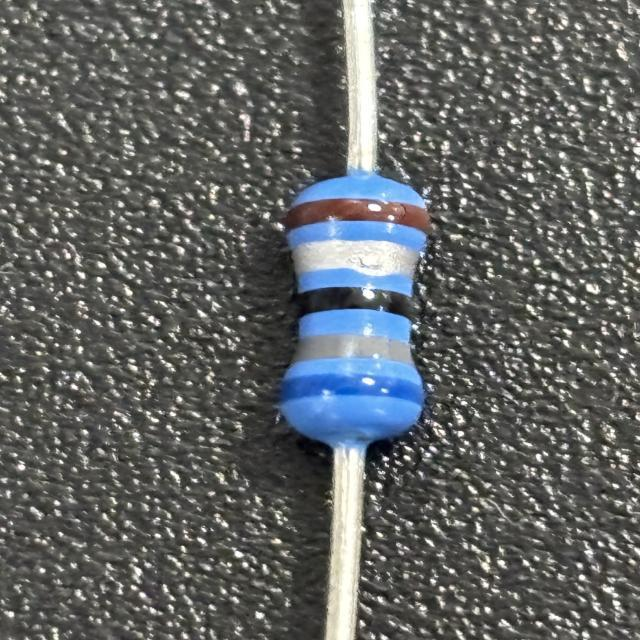resistor: (270, 183, 437, 440)
